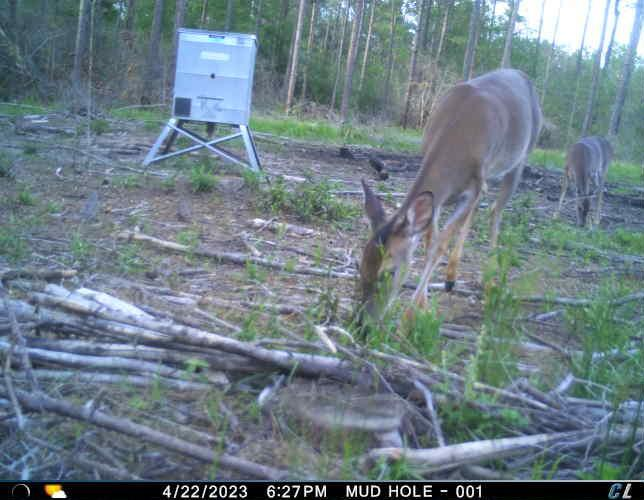Deer: (349, 67, 546, 340), (555, 133, 611, 234)
